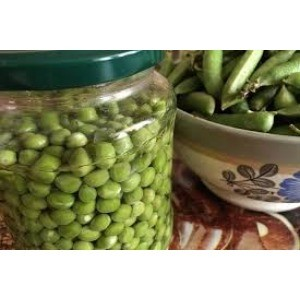green pea_brain food: (13, 114, 145, 210), (205, 59, 290, 98)
